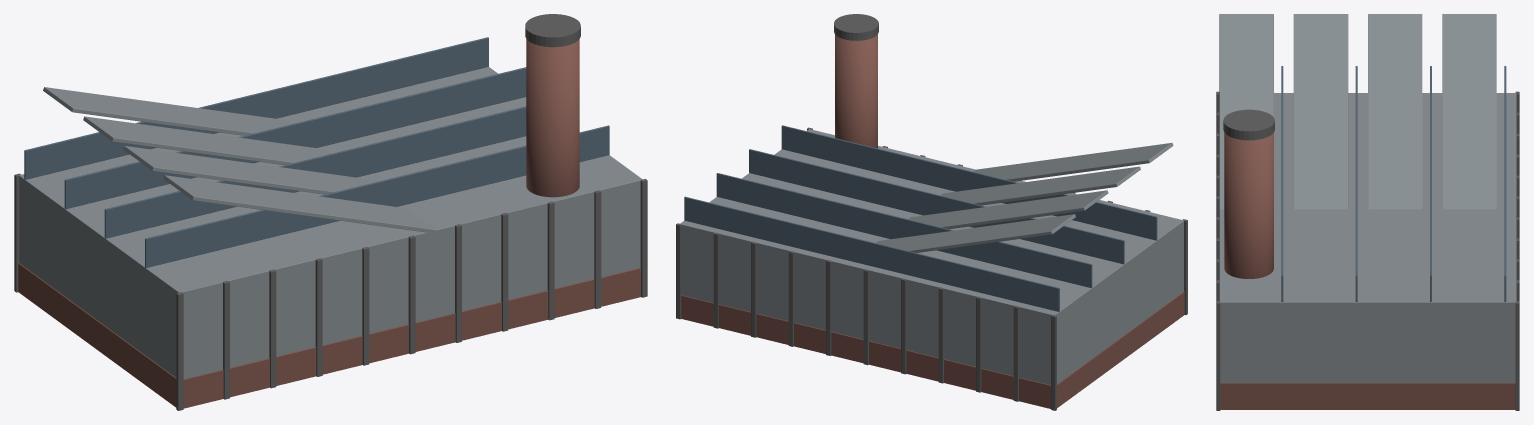
File: Factory_building.fbx
The picture shows the model from 3 angles, left to right: view 1: azimuth 30°, elevation 25°; view 2: azimuth 150°, elevation 25°; view 3: azimuth 270°, elevation 25°; orthographic projection. The views are drawn at different scales.
Parts seen in each view (by area): view 1: Factory_Main_Body, Factory_Brick_Base, Roof_Glass_1, Roof_Glass_4, Roof_Glass_3, Roof_Glass_2, Factory_Smokestack, Roof_Slope_1, Roof_Slope_2, Roof_Slope_3, Roof_Slope_4, Stack_Cap (+12 smaller); view 2: Factory_Main_Body, Factory_Brick_Base, Roof_Glass_4, Roof_Glass_3, Roof_Glass_2, Roof_Glass_1, Factory_Smokestack, Roof_Slope_1, Roof_Slope_3, Roof_Slope_4, Roof_Slope_2, Stack_Cap (+11 smaller); view 3: Factory_Main_Body, Roof_Slope_2, Roof_Slope_3, Roof_Slope_4, Factory_Brick_Base, Factory_Smokestack, Roof_Slope_1, Stack_Cap, Roof_Glass_1, Roof_Glass_2, Roof_Glass_4, Pier_L_11 (+2 smaller).
Part boxes in pixels (<box>): Factory_Main_Body: <box>19,67,642,378</box>; Factory_Brick_Base: <box>18,263,640,408</box>; Roof_Glass_1: <box>145,125,609,267</box>; Roof_Glass_4: <box>24,37,488,179</box>; Roof_Glass_3: <box>64,67,526,209</box>; Roof_Glass_2: <box>104,106,526,238</box>; Factory_Smokestack: <box>526,39,579,197</box>; Roof_Slope_1: <box>163,175,451,234</box>; Roof_Slope_2: <box>123,146,372,194</box>; Roof_Slope_3: <box>83,116,332,165</box>; Roof_Slope_4: <box>43,87,291,135</box>; Stack_Cap: <box>525,14,580,47</box>; Factory_Main_Body: <box>680,129,1183,384</box>; Factory_Brick_Base: <box>681,291,1184,408</box>; Roof_Glass_4: <box>684,196,1059,311</box>; Roof_Glass_3: <box>716,173,1092,287</box>; Roof_Glass_2: <box>749,149,1124,264</box>; Roof_Glass_1: <box>781,125,1157,240</box>; Factory_Smokestack: <box>835,34,877,148</box>; Roof_Slope_1: <box>973,142,1173,181</box>; Roof_Slope_3: <box>908,190,1108,229</box>; Roof_Slope_4: <box>876,214,1075,252</box>; Roof_Slope_2: <box>941,166,1140,205</box>; Stack_Cap: <box>834,14,878,40</box>; Factory_Main_Body: <box>1219,93,1516,382</box>; Roof_Slope_2: <box>1293,14,1348,209</box>; Roof_Slope_3: <box>1368,14,1422,209</box>; Roof_Slope_4: <box>1442,14,1496,209</box>; Factory_Brick_Base: <box>1220,383,1515,409</box>; Factory_Smokestack: <box>1224,132,1273,278</box>; Roof_Slope_1: <box>1219,14,1273,209</box>; Stack_Cap: <box>1223,109,1274,140</box>; Roof_Glass_1: <box>1281,66,1283,301</box>; Roof_Glass_2: <box>1355,66,1357,301</box>; Roof_Glass_4: <box>1504,66,1506,301</box>; Pier_L_11: <box>1515,301,1519,410</box>.
Size of the model in its own units: 50.6 by 30.6 by 28.5.
